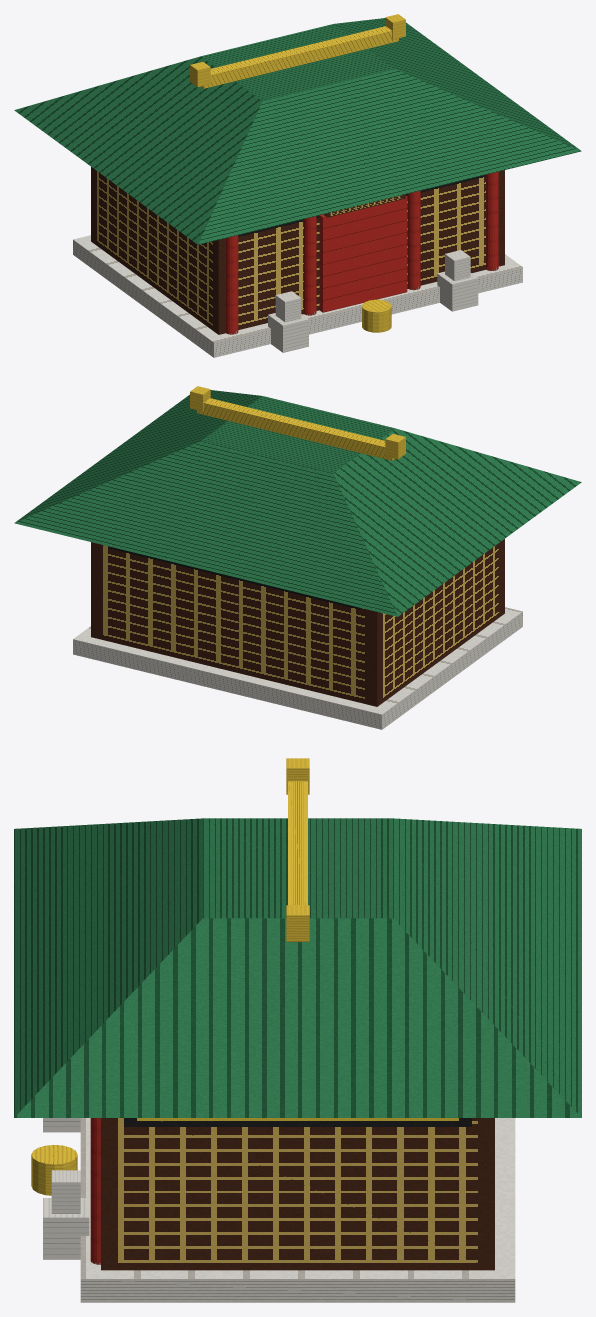
Rendered from building_dojo_01_traditional_kwoon.glb.
3 views of the same model, one above another, from view 1: azimuth 30°, elevation 25°; view 2: azimuth 150°, elevation 25°; view 3: azimuth 270°, elevation 25° (orthographic). The views are drawn at different scales.
Parts seen in each view (by area): view 1: Building_Dojo_01_Traditional_Kwoon; view 2: Building_Dojo_01_Traditional_Kwoon; view 3: Building_Dojo_01_Traditional_Kwoon.
Boxes of the visible parts, x1,y1,x2,y2 form: Building_Dojo_01_Traditional_Kwoon: (14,14,581,357); Building_Dojo_01_Traditional_Kwoon: (14,386,581,729); Building_Dojo_01_Traditional_Kwoon: (14,758,581,1302).
Bounding box in the file's own units: 11.8 × 6.65 × 9.8.
Materials: 1 (1 with a texture image).
